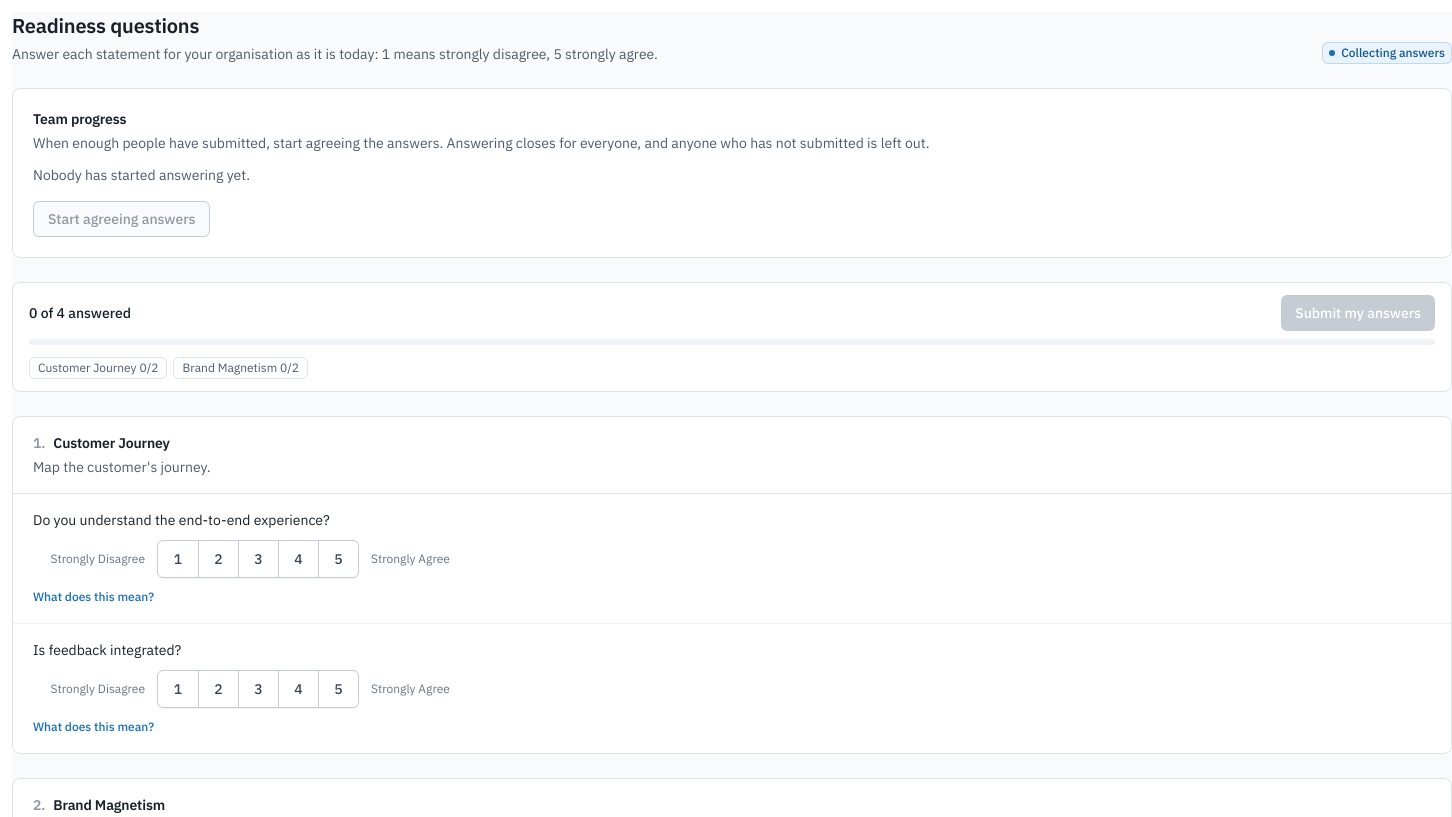
it: QuestionnairePage › keeps a failed answer marked after a later save works
The width and height of the screenshot is (1452, 817).
Click the 1st radio button labelled "4": (298, 559) top-left (278, 541), bottom-right (318, 577)
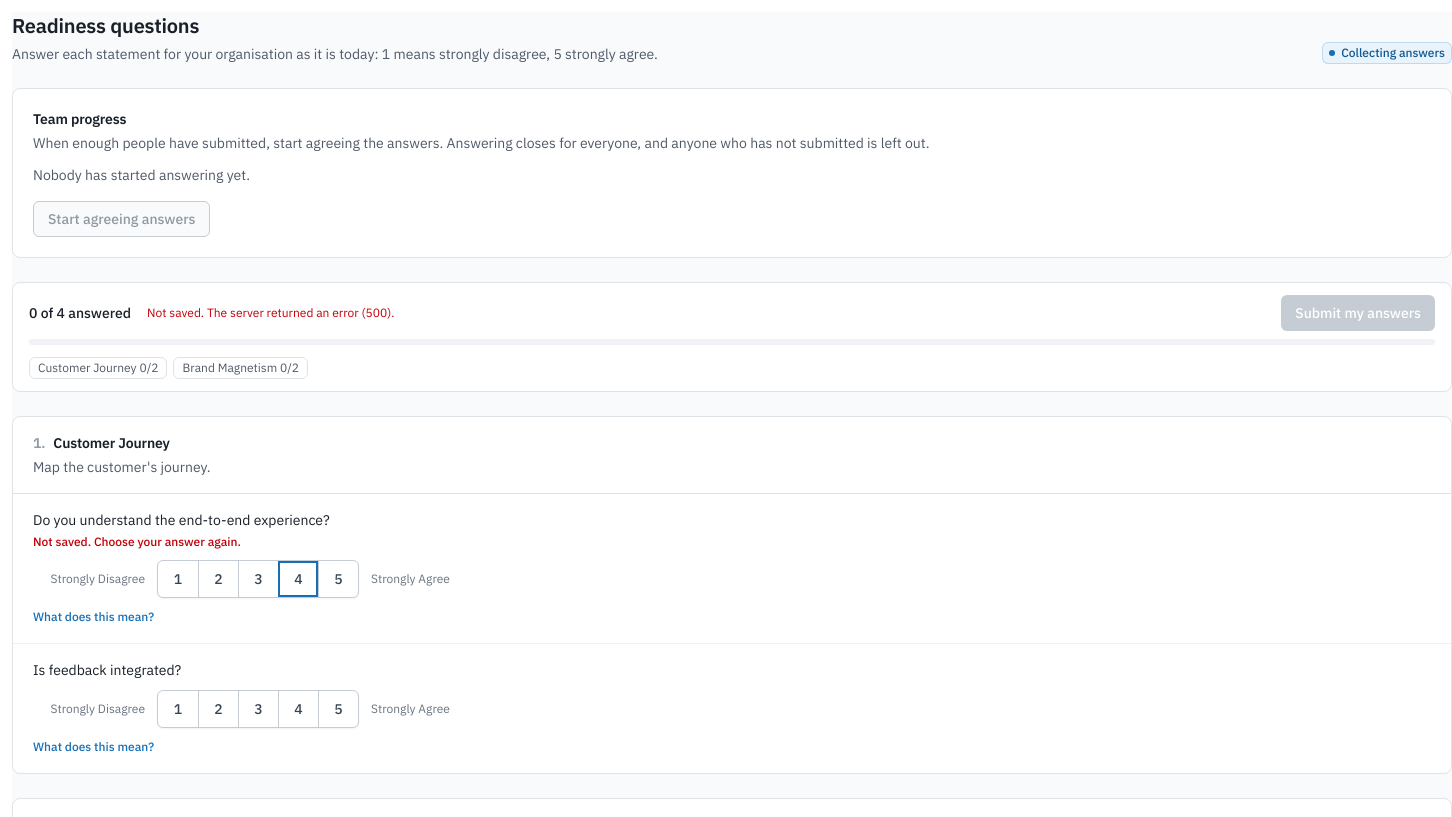
Now the message named "Save status" shows "Not saved", box top-left (147, 305), bottom-right (394, 320)
Click the radio button labelled "3" below "Is feedback integrated?": (258, 709) top-left (238, 691), bottom-right (278, 727)
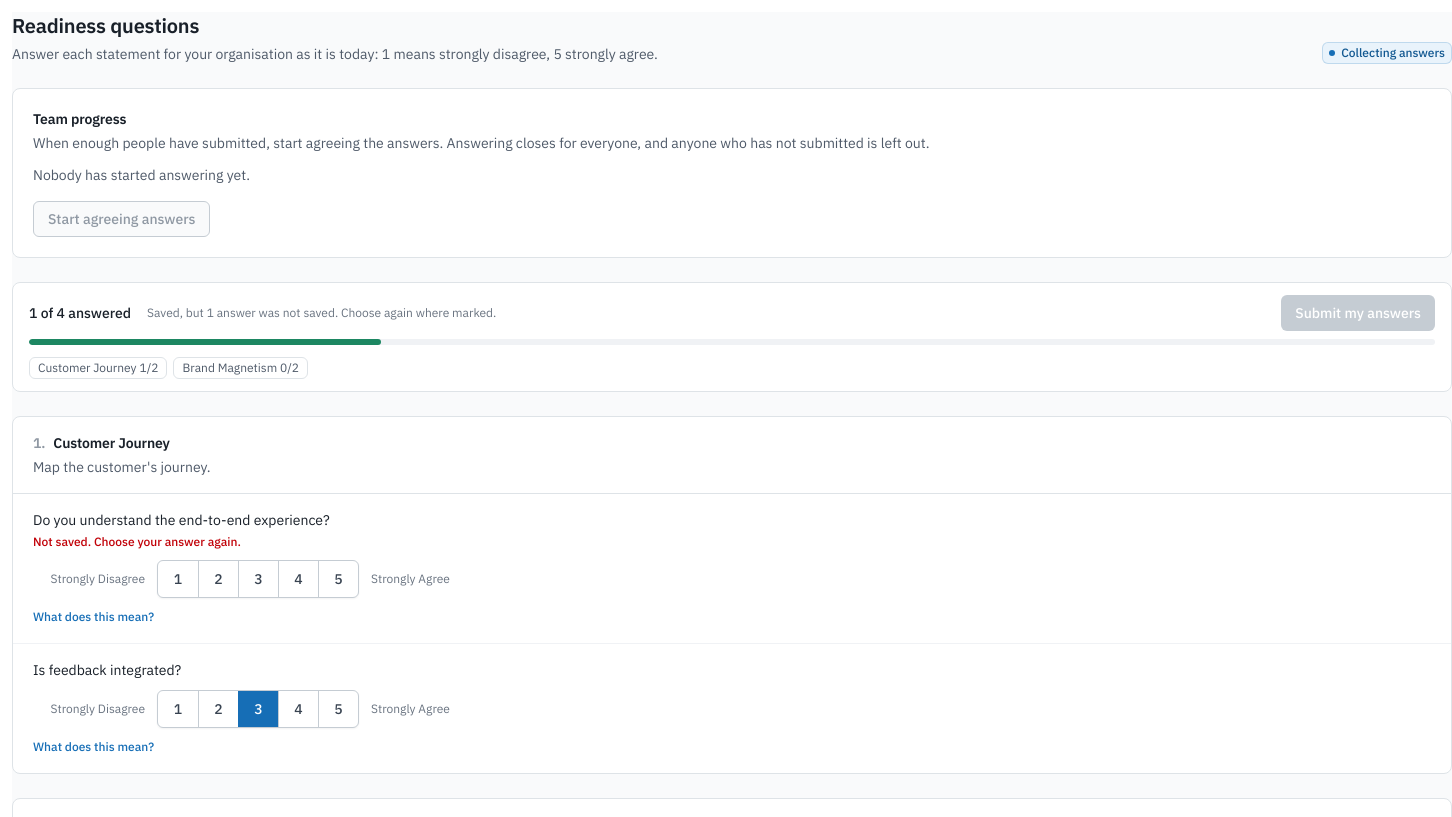
Now the text "Not saved. Choose your answer again." is shown, box top-left (33, 534), bottom-right (241, 549)
Now the message named "Save status" reads "Saved, but 1 answer was not saved. Choose again where marked.", box top-left (147, 305), bottom-right (496, 320)
Now the text "1 of 4 answered" is shown, box top-left (29, 303), bottom-right (131, 323)
// Choosing the marked question again clears the mark once the save works.
Click the radio button named "5, Strongly Agree": (338, 579) top-left (318, 561), bottom-right (358, 597)
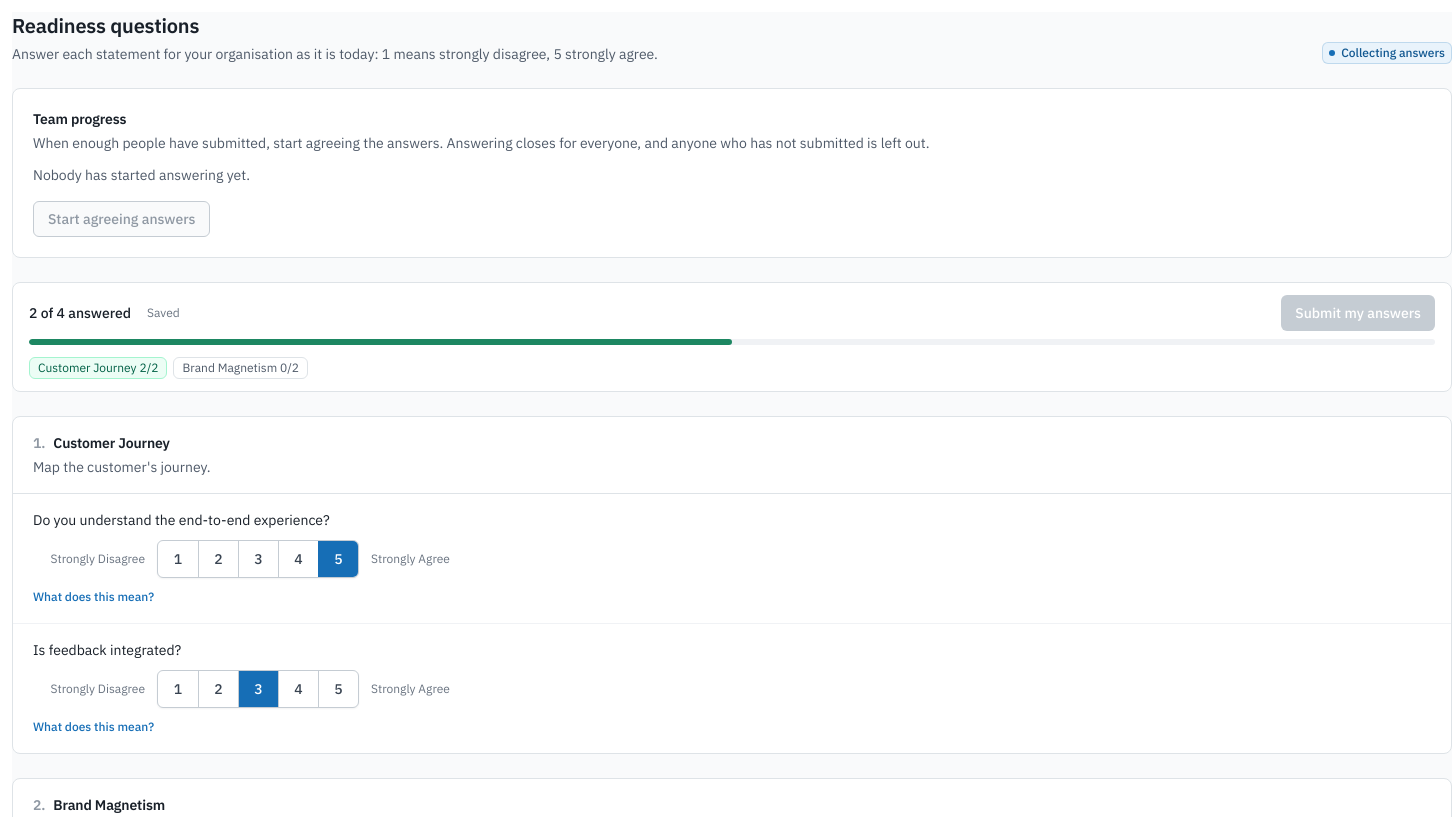
Now the text "Saved" is shown, box top-left (147, 305), bottom-right (180, 321)
Now the text "not saved" is gone
